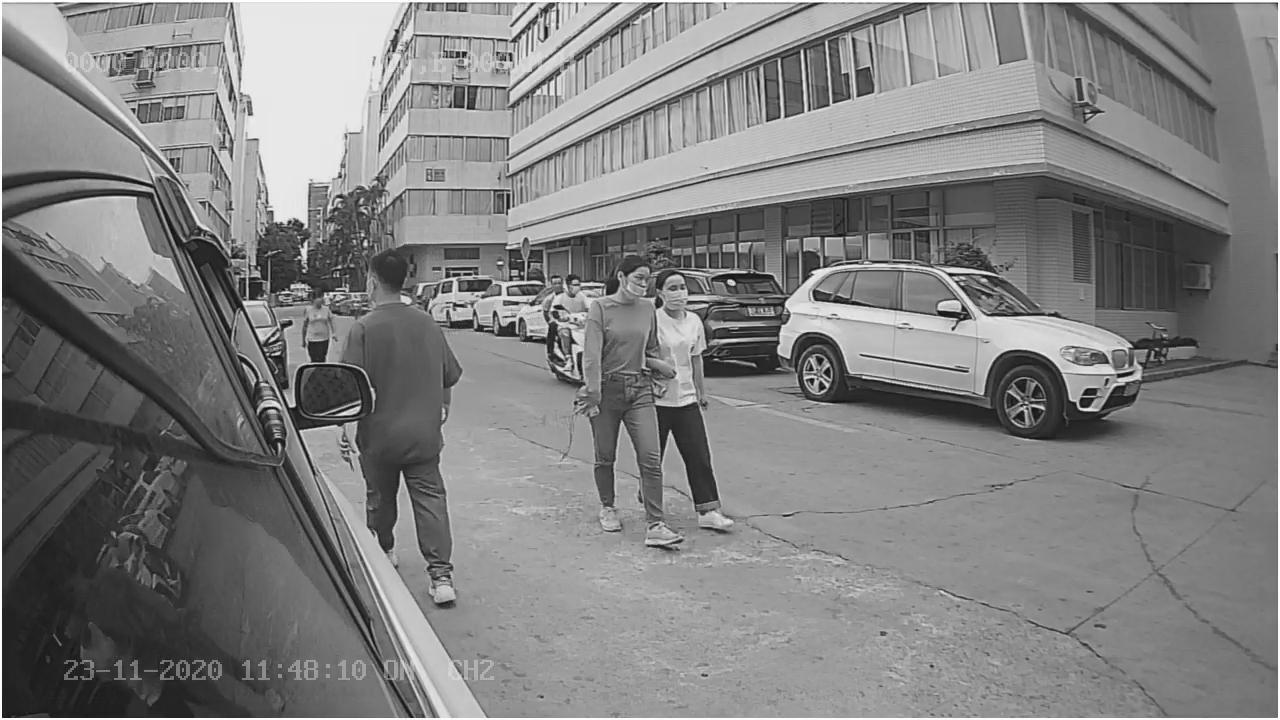person: (571, 251, 681, 547)
